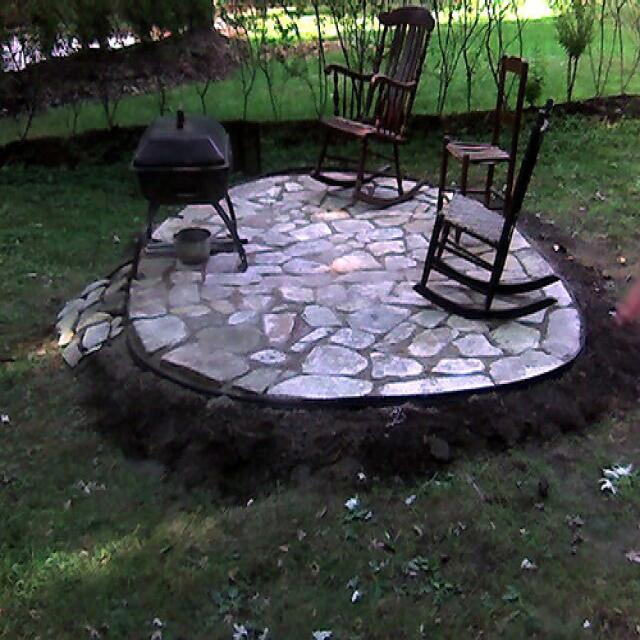chair: (411, 95, 563, 334), (316, 3, 428, 225), (436, 49, 536, 243)
